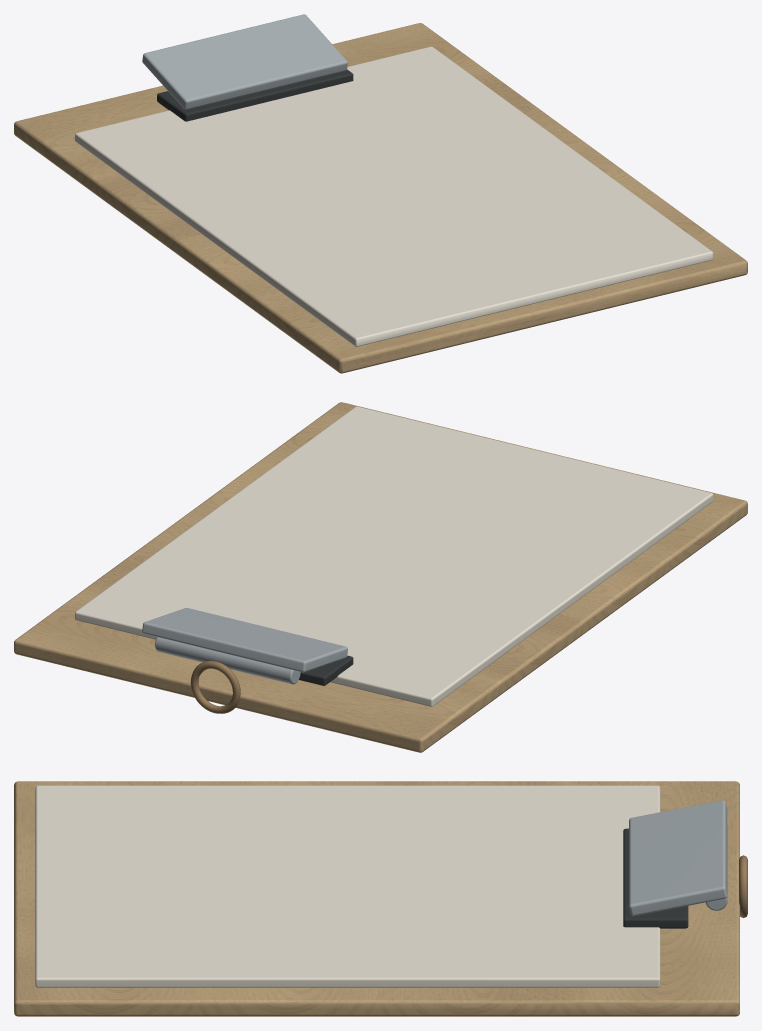
File: crime-clipboard.glb
3 views of the same model, one above another, from view 1: azimuth 30°, elevation 25°; view 2: azimuth 150°, elevation 25°; view 3: azimuth 270°, elevation 25° (orthographic). The views are drawn at different scales.
Parts seen in each view (by area): view 1: Blank clipped paper stack, Ash clipboard, Spring clip press plate, Spring clip lower jaw; view 2: Blank clipped paper stack, Ash clipboard, Spring clip press plate, Clip hinge barrel, Clipboard hanging eye, Spring clip lower jaw; view 3: Blank clipped paper stack, Ash clipboard, Spring clip press plate, Spring clip lower jaw, Clipboard hanging eye.
Boxes of the visible parts, bbox=[...] form: Blank clipped paper stack: bbox=[75, 46, 713, 346]; Ash clipboard: bbox=[14, 23, 747, 373]; Spring clip press plate: bbox=[142, 14, 347, 109]; Spring clip lower jaw: bbox=[157, 69, 353, 121]; Blank clipped paper stack: bbox=[75, 406, 713, 706]; Ash clipboard: bbox=[14, 402, 747, 752]; Spring clip press plate: bbox=[142, 608, 347, 672]; Clip hinge barrel: bbox=[155, 637, 300, 684]; Clipboard hanging eye: bbox=[190, 661, 240, 713]; Spring clip lower jaw: bbox=[299, 655, 353, 685]; Blank clipped paper stack: bbox=[35, 785, 660, 987]; Ash clipboard: bbox=[14, 781, 739, 1016]; Spring clip press plate: bbox=[629, 800, 727, 916]; Spring clip lower jaw: bbox=[623, 828, 688, 928]; Clipboard hanging eye: bbox=[739, 855, 747, 917].
Size of the model in its own units: 0.233 by 0.0352 by 0.3265.
6 materials, 6 textured.
